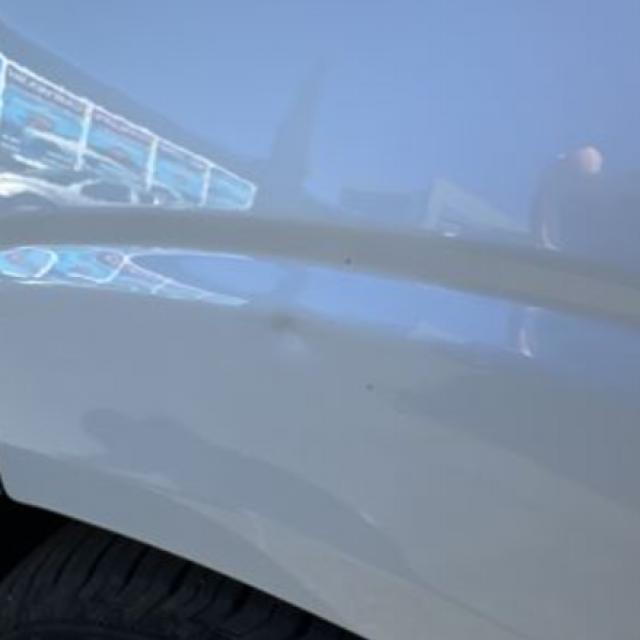dents: (242, 293, 360, 395)
